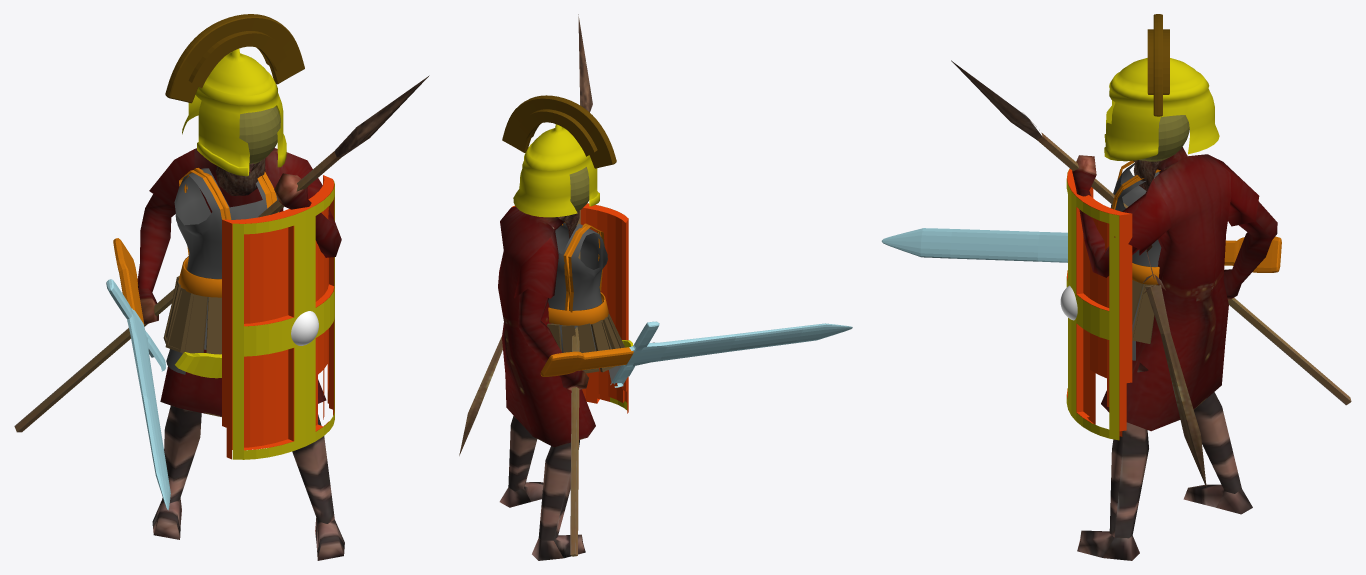
Rendered from Legion.glb.
3 renders of one model, left to right at view 1: azimuth 30°, elevation 25°; view 2: azimuth 150°, elevation 25°; view 3: azimuth 270°, elevation 25°, orthographic. The views are drawn at different scales.
Parts seen in each view (by area): view 1: Legion, Man.001; view 2: Legion, Man.001; view 3: Man.001, Legion.
Boxes of the visible parts, left/top/right/bottom form: Legion: left=106, top=14, right=334, bottom=510; Man.001: left=14, top=75, right=429, bottom=560; Legion: left=502, top=95, right=852, bottom=413; Man.001: left=459, top=14, right=595, bottom=560; Man.001: left=951, top=60, right=1351, bottom=560; Legion: left=881, top=14, right=1281, bottom=440.
Size of the model in its own units: 1.36 by 2.2 by 1.87.
10 materials, 1 textured.
